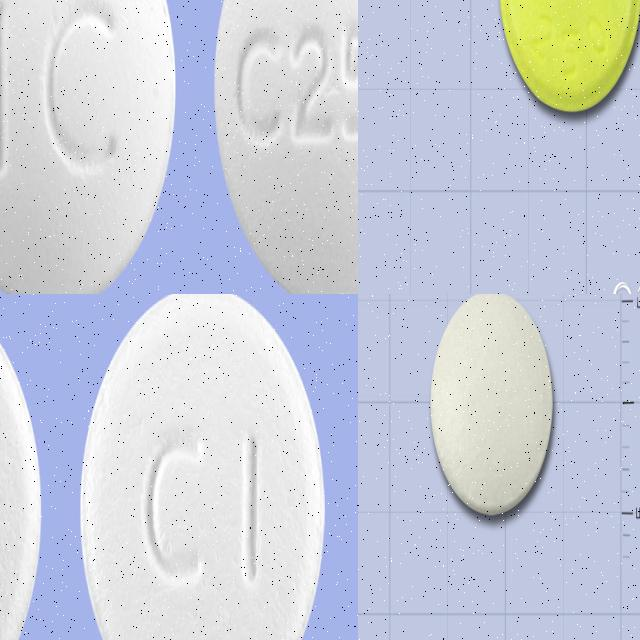C-Clarin: (495, 0, 640, 121)
Ciproxin: (423, 294, 561, 529)
Ciroctan - 500mg: (0, 0, 181, 294), (211, 0, 358, 294)
Ciroxacin: (76, 294, 330, 640)
